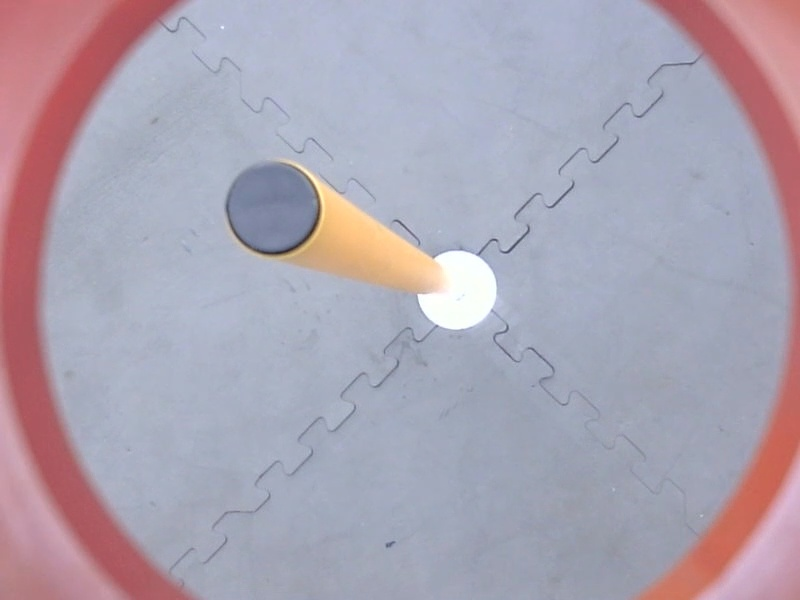tip: (218, 153, 328, 264)
